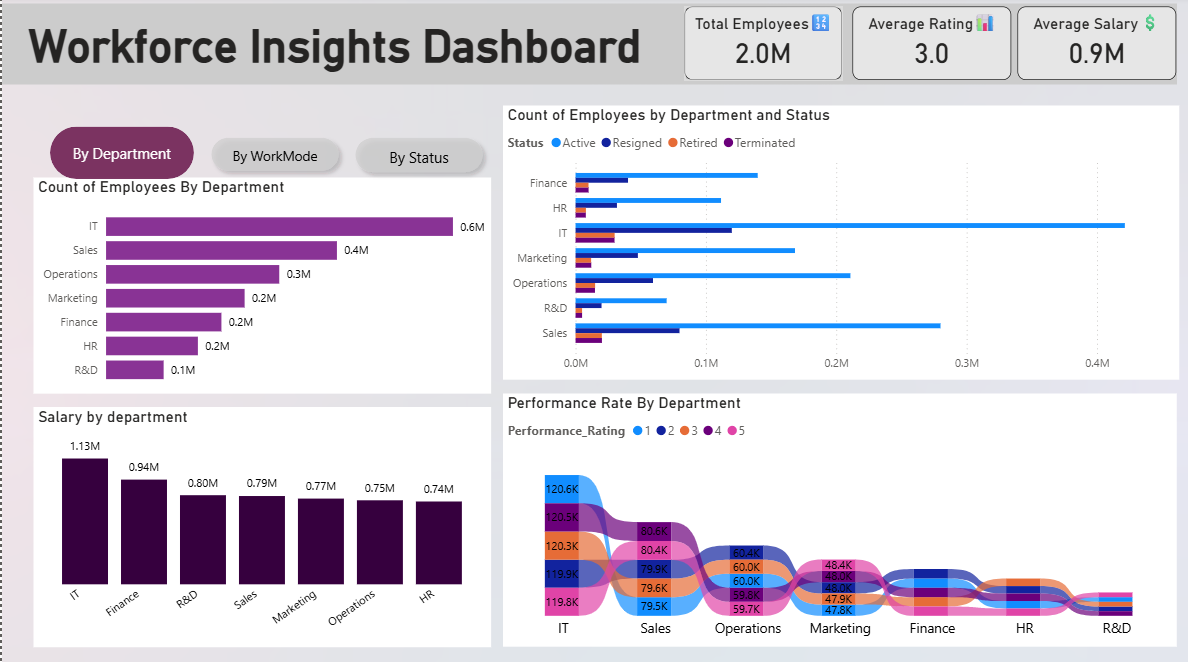

The dashboard page shown, as its layout file describes it:
{"tool":"powerbi","page":{"name":"Page 1","canvas":[1280,720],"ordinal":0},"visuals":[{"type":"barChart","title":"Count of Employees By Department","fields":{"Category":["HR_Data_MNC_Data Science Lovers.Department"],"Y":["HR_Data_MNC_Data Science Lovers.Employee_ID"]},"box":[34,195.9,493.9,233.2],"z":2000},{"type":"columnChart","title":"Salary by department","fields":{"Category":["HR_Data_MNC_Data Science Lovers.Department"],"Y":["HR_Data_MNC_Data Science Lovers.Salary_INR"]},"box":[34,443.7,493.9,259.1],"z":5000},{"type":"ribbonChart","title":"Performance Rate By Department","fields":{"Category":["HR_Data_MNC_Data Science Lovers.Department"],"Y":["HR_Data_MNC_Data Science Lovers.Employee_ID"],"Series":["HR_Data_MNC_Data Science Lovers.Performance_Rating"]},"box":[540.8,429.1,727,273.6],"z":6000},{"type":"actionButton","title":"BB_Dep","box":[51.8,140.9,155.4,56.7],"z":8000},{"type":"actionButton","title":"Button_Status","box":[372.4,144.1,155.4,55.1],"z":10000},{"type":"actionButton","title":"Button_Workmode","box":[217,144.1,155.4,53.4],"z":11000},{"type":"card","title":"Total Employees🔢","fields":{"Values":["HR_Data_MNC_Data Science Lovers.Employee_ID"]},"box":[736.7,11.3,170,79.3],"z":12250,"group":"g1"},{"type":"card","title":"Average Rating📊","fields":{"Values":["HR_Data_MNC_Data Science Lovers.Performance_Rating"]},"box":[918.1,11.3,171.6,79.3],"z":12500,"group":"g1"},{"type":"card","title":"Average Salary💲","fields":{"Values":["HR_Data_MNC_Data Science Lovers.Salary_INR"]},"box":[1096.2,11.3,171.6,79.3],"z":13000,"group":"g1"},{"type":"card","title":"ReportTitle","fields":{"Values":["HR_Data_MNC_Data Science Lovers.ReportTitle"]},"box":[0,8.2,717.5,87.4],"z":14000,"group":"g1"},{"type":"group","id":"g1","title":"ReportTitle","box":[0,8.2,1267.9,87.4],"z":14001},{"type":"clusteredBarChart","title":"Count of Employees by Department and Status","fields":{"Category":["HR_Data_MNC_Data Science Lovers.Department"],"Y":["HR_Data_MNC_Data Science Lovers.Employee_ID"],"Series":["HR_Data_MNC_Data Science Lovers.Status"]},"box":[540.8,118.2,730.3,296.3],"z":14002}]}

Visuals, with their boxes in screenshot pixels (x1, y1, x2, y2), scaled from the page's 1280x720 canvas onto the 1188x662 screenshot:
"Count of Employees By Department" barChart: {"x1": 32, "y1": 180, "x2": 490, "y2": 395}
"Salary by department" columnChart: {"x1": 32, "y1": 408, "x2": 490, "y2": 646}
"Performance Rate By Department" ribbonChart: {"x1": 502, "y1": 395, "x2": 1177, "y2": 646}
"BB_Dep" actionButton: {"x1": 48, "y1": 130, "x2": 192, "y2": 182}
"Button_Status" actionButton: {"x1": 346, "y1": 132, "x2": 490, "y2": 183}
"Button_Workmode" actionButton: {"x1": 201, "y1": 132, "x2": 346, "y2": 182}
"Total Employees🔢" card: {"x1": 684, "y1": 10, "x2": 842, "y2": 83}
"Average Rating📊" card: {"x1": 852, "y1": 10, "x2": 1011, "y2": 83}
"Average Salary💲" card: {"x1": 1017, "y1": 10, "x2": 1177, "y2": 83}
"ReportTitle" card: {"x1": 0, "y1": 8, "x2": 666, "y2": 88}
"ReportTitle" group: {"x1": 0, "y1": 8, "x2": 1177, "y2": 88}
"Count of Employees by Department and Status" clusteredBarChart: {"x1": 502, "y1": 109, "x2": 1180, "y2": 381}
